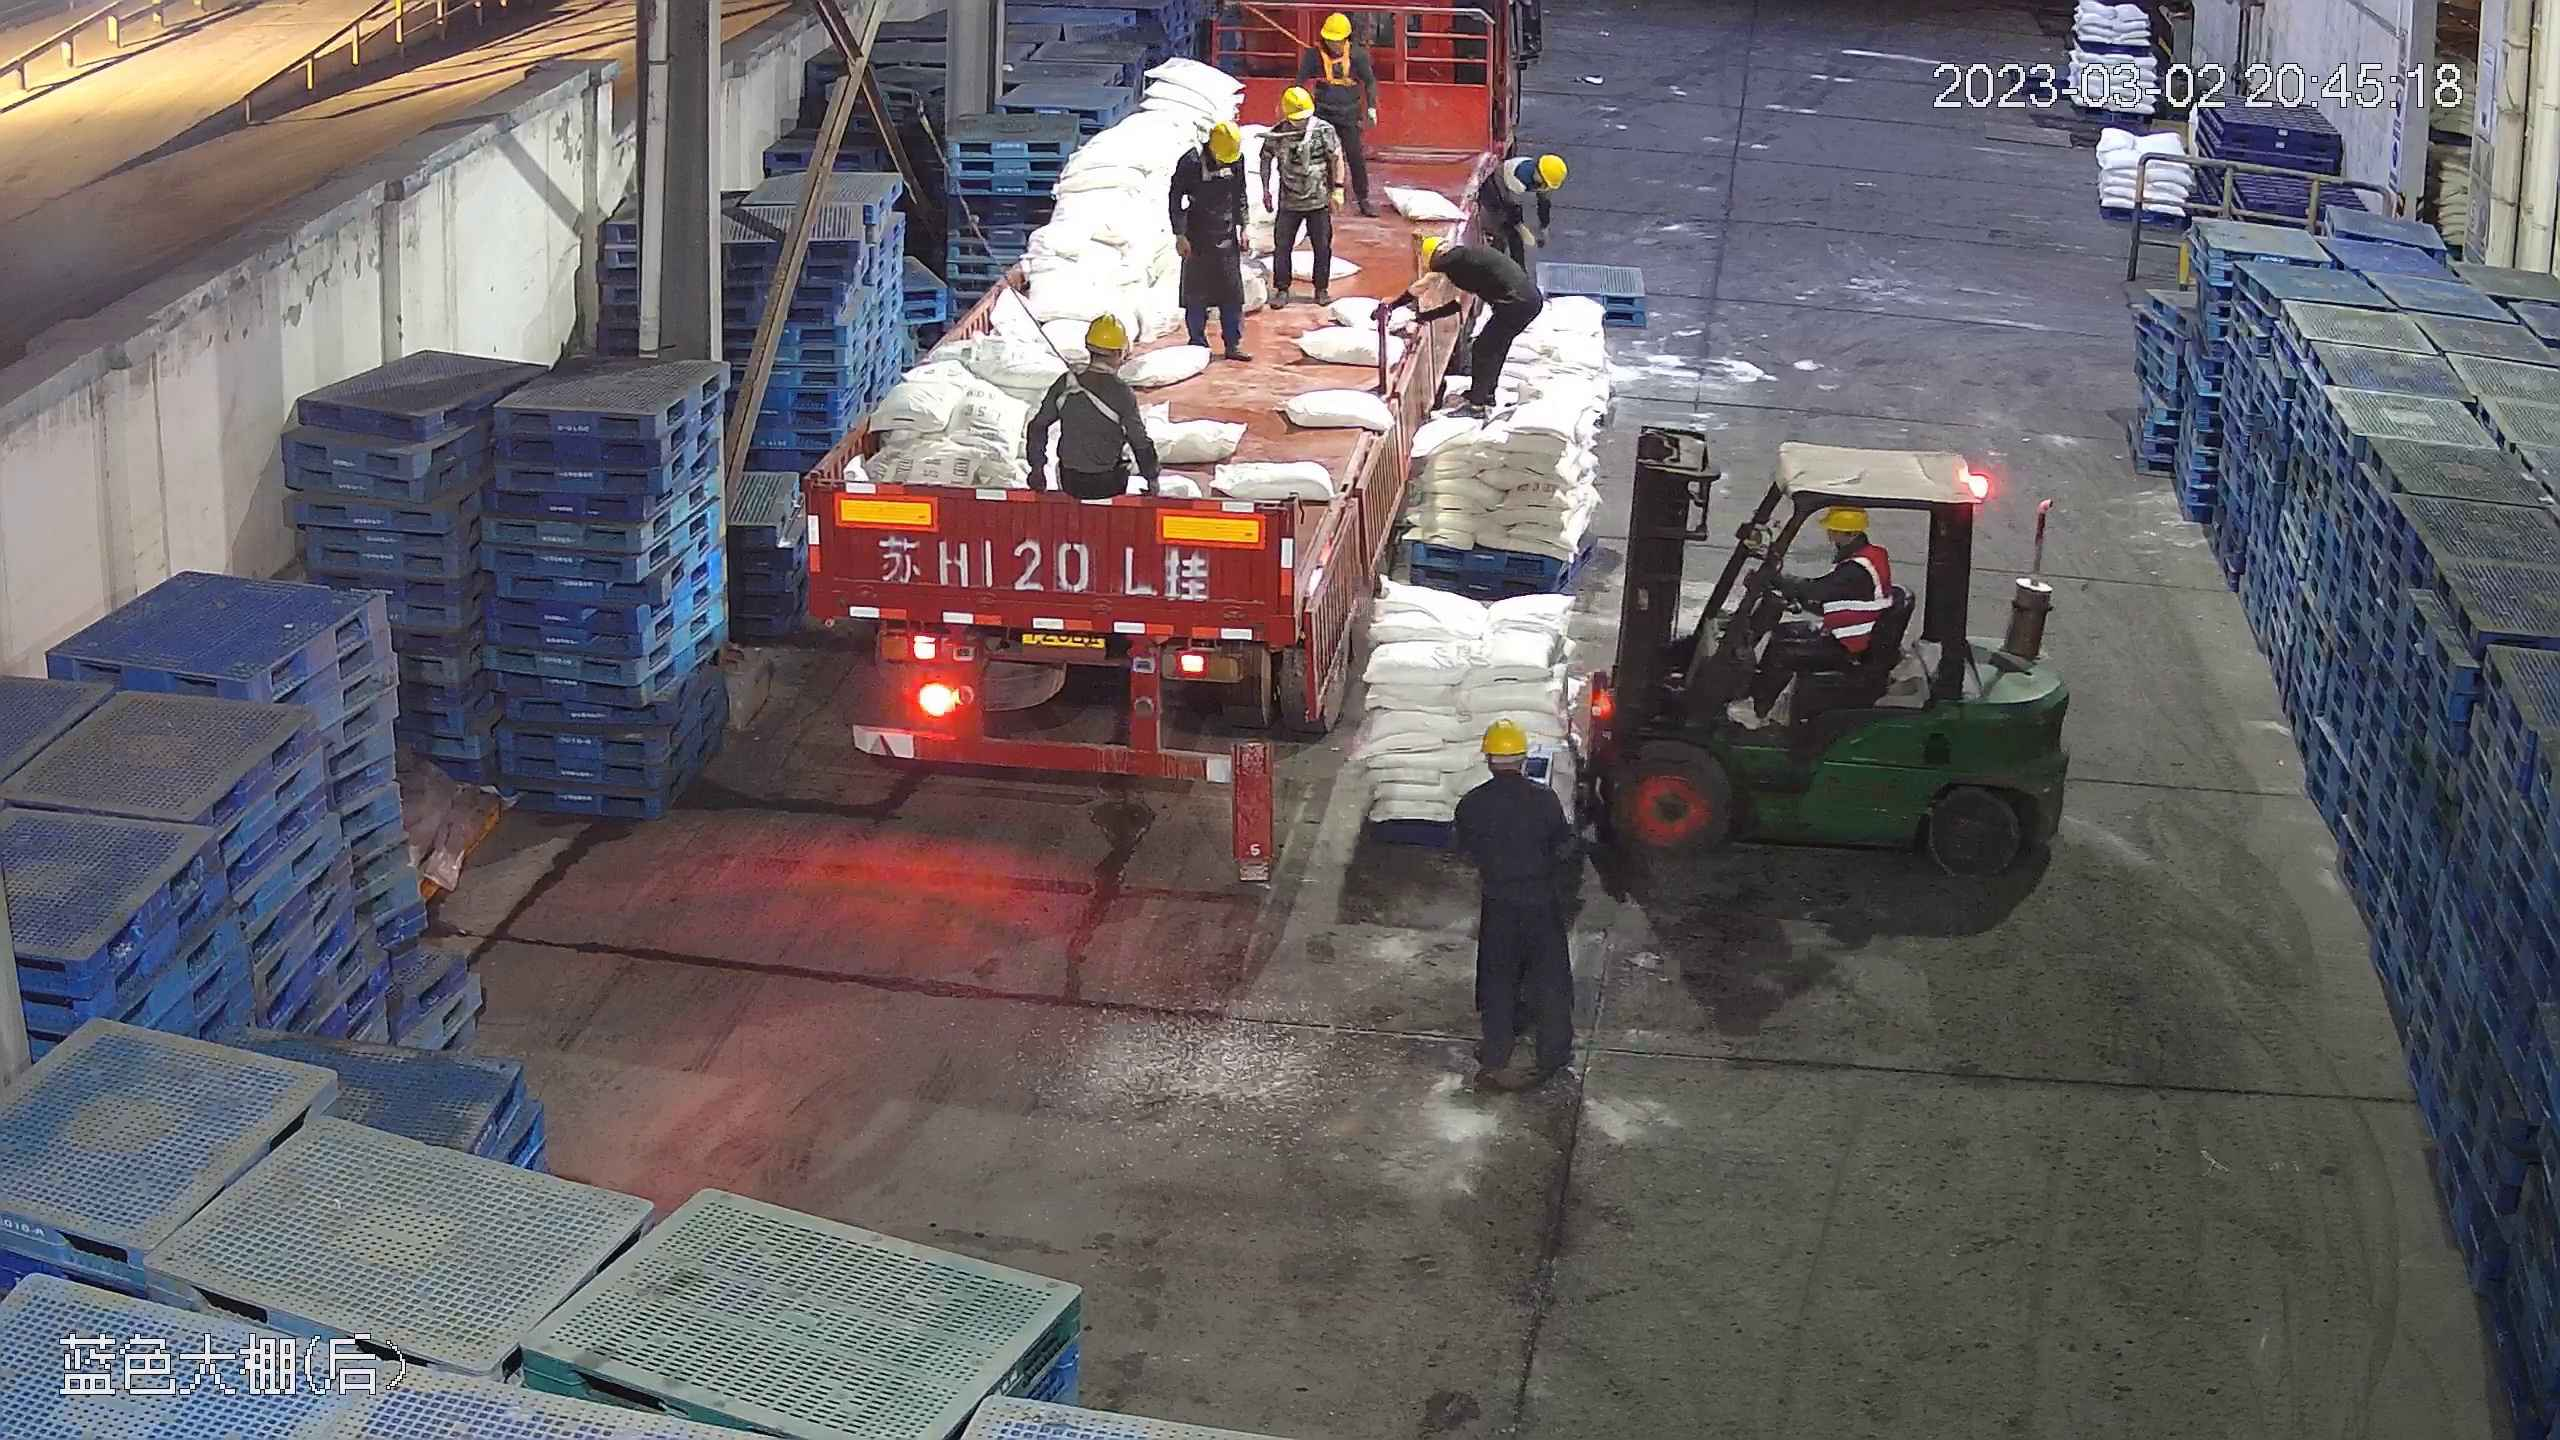belt: (1046, 363, 1127, 433), (1272, 120, 1332, 186), (1183, 144, 1239, 206), (1309, 39, 1359, 88)
head: (1456, 718, 1570, 826), (1043, 312, 1146, 411), (1810, 504, 1892, 596), (1170, 116, 1250, 196), (1484, 155, 1567, 220), (1268, 82, 1338, 157), (1406, 231, 1478, 297), (1298, 10, 1370, 74)
helmet: (1080, 312, 1131, 351), (1478, 718, 1533, 753), (1204, 118, 1244, 163), (1816, 504, 1868, 534), (1274, 88, 1312, 119), (1541, 155, 1568, 191), (1317, 11, 1352, 39), (1419, 234, 1449, 263)
people: (1450, 714, 1588, 1092), (1732, 497, 1903, 730), (1400, 232, 1528, 419), (1162, 111, 1252, 355), (1257, 85, 1346, 299), (1287, 9, 1378, 209), (1462, 150, 1567, 292)
truck: (827, 21, 1477, 798)
